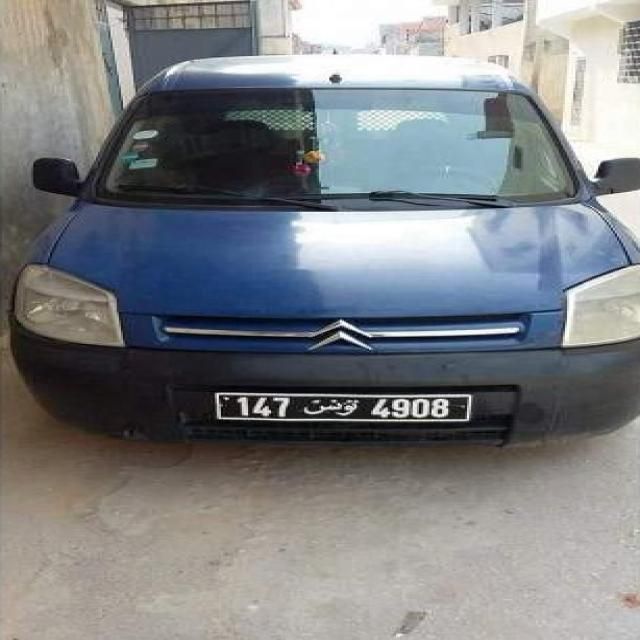licence plate: (220, 395, 468, 418)
